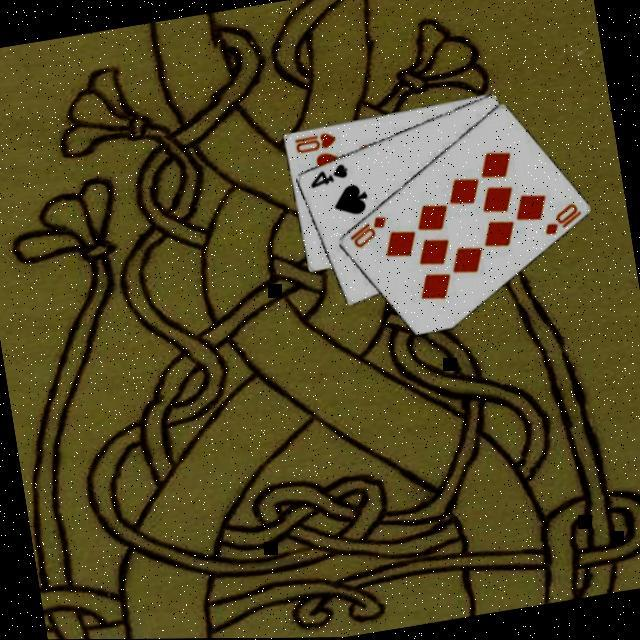10D: (341, 213, 391, 254), (536, 200, 586, 241)
10H: (288, 129, 338, 158)
4S: (302, 161, 350, 193)
